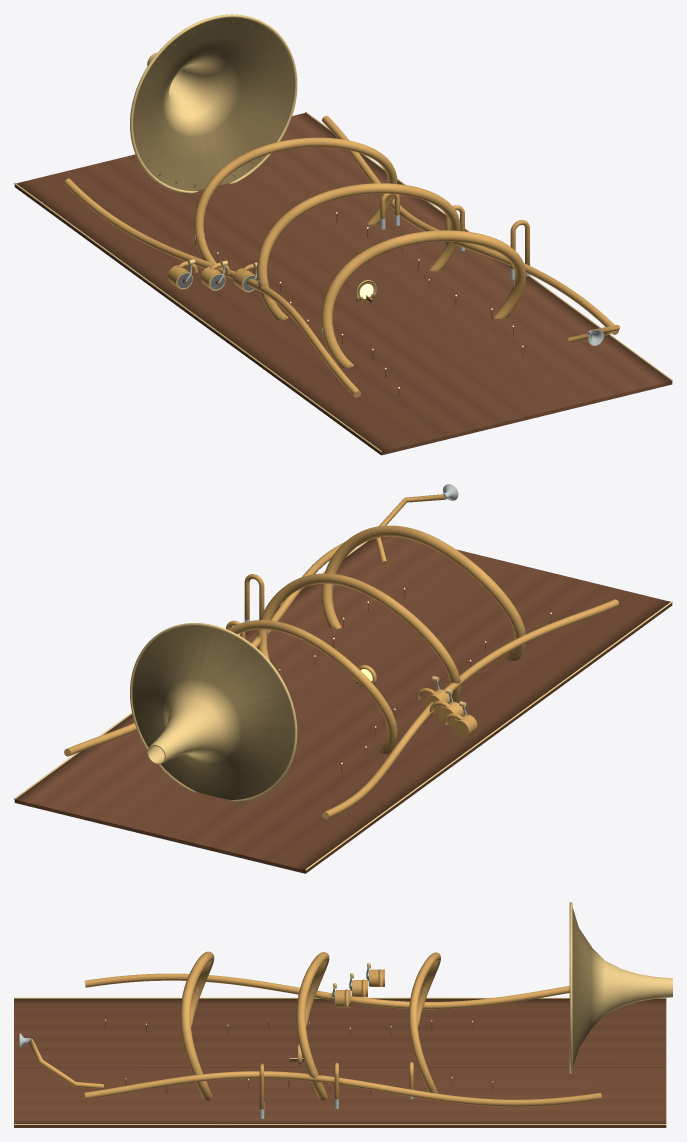
File: mundo-corno.glb
The picture shows the model from 3 angles, top to bottom: view 1: azimuth 30°, elevation 25°; view 2: azimuth 150°, elevation 25°; view 3: azimuth 270°, elevation 25°; orthographic projection. The views are drawn at different scales.
Parts seen in each view (by area): view 1: Tarima de la caja, Salón de latón, Níquel de mecanismos; view 2: Tarima de la caja, Salón de latón; view 3: Tarima de la caja, Salón de latón, Níquel de mecanismos.
Part boxes in pixels (bbox=[...]): Tarima de la caja: bbox=[14, 113, 672, 455]; Salón de latón: bbox=[14, 14, 672, 452]; Níquel de mecanismos: bbox=[177, 215, 603, 345]; Tarima de la caja: bbox=[14, 536, 672, 873]; Salón de latón: bbox=[14, 494, 672, 870]; Tarima de la caja: bbox=[14, 999, 666, 1127]; Salón de latón: bbox=[14, 902, 672, 1125]; Níquel de mecanismos: bbox=[19, 968, 425, 1118].
Bounding box in the file's own units: 89.77 × 60.76 × 194.
